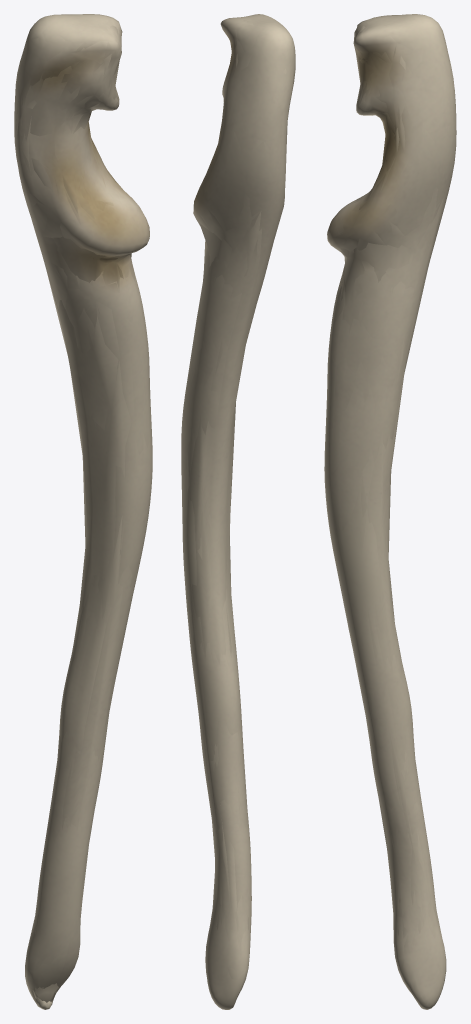
File: L Ulna.fbx
The picture shows the model from 3 angles, left to right: view 1: azimuth 90°, elevation 25°; view 2: azimuth 210°, elevation 25°; view 3: azimuth 270°, elevation 25°; orthographic projection. The views are drawn at different scales.
Visible parts, largest first — view 1: L Ulna high, L Ulna, L Ulna low; view 2: L Ulna high, L Ulna, L Ulna low; view 3: L Ulna high, L Ulna, L Ulna low.
Boxes of the visible parts, x1,y1,x2,y2 form: L Ulna high: (14,14,152,1008); L Ulna: (15,14,152,1009); L Ulna low: (21,25,131,1002); L Ulna high: (181,14,295,1009); L Ulna: (181,14,295,1009); L Ulna low: (186,16,289,931); L Ulna high: (324,14,456,1009); L Ulna: (326,14,455,1009); L Ulna low: (339,26,443,933).
Bounding box in the file's own units: 4.44 × 48.31 × 5.97.
1 material, 1 textured.
